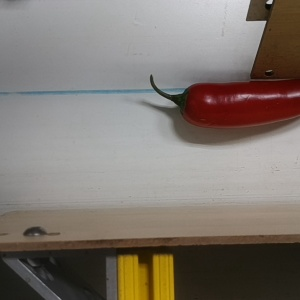Cut Point: (170, 82, 205, 127)
